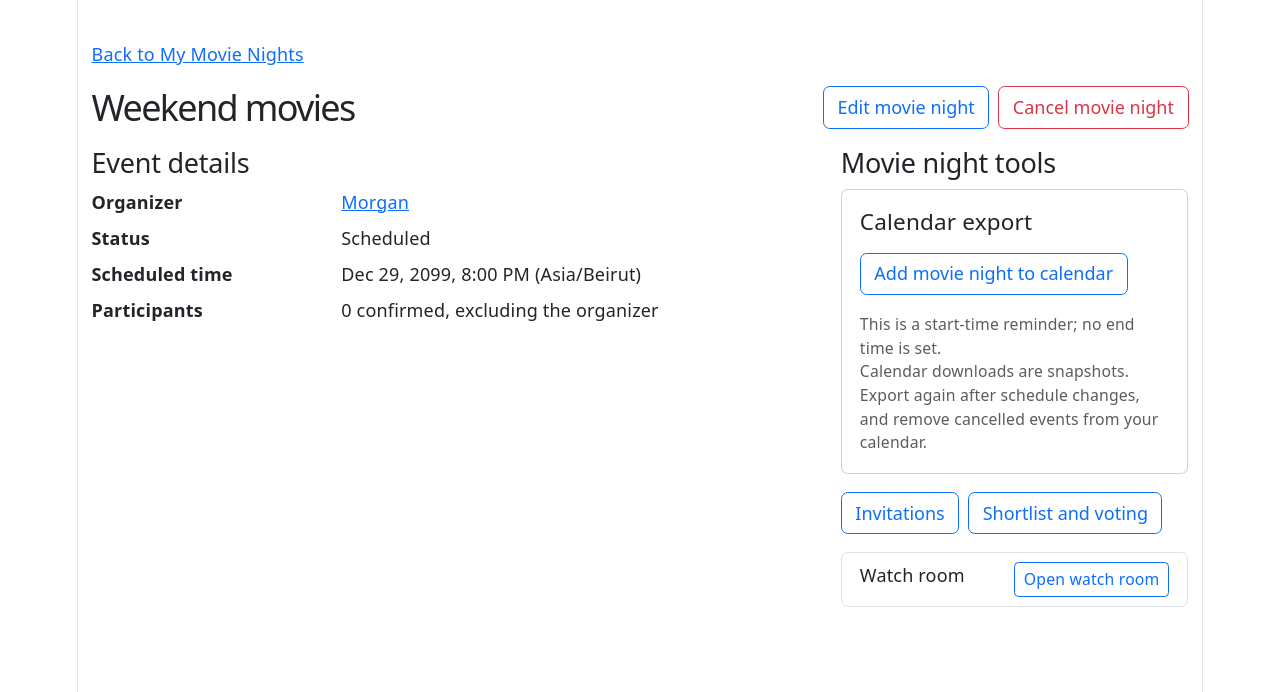
Test: lets an organizer invite a follower and inspect invitation statuses
This screenshot has width=1280, height=692.
Click the button "Invitations" at coordinates (900, 513), box [841, 492, 959, 534]
(page scrolled)
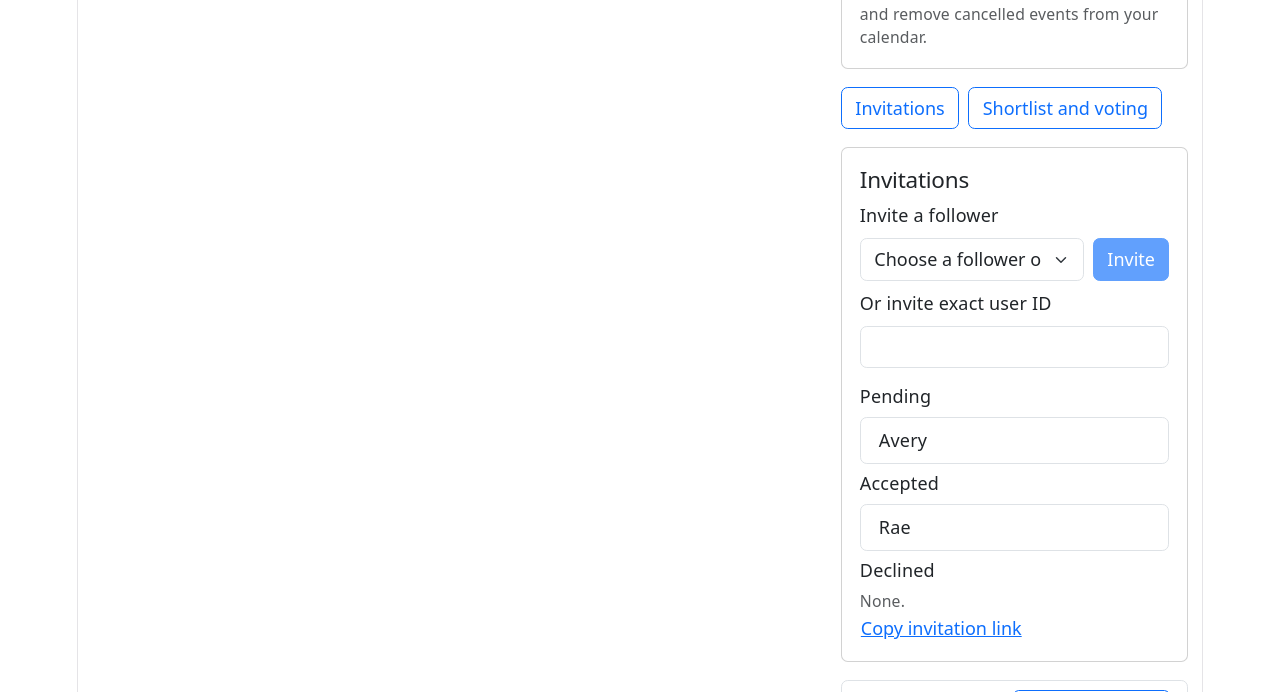
Result: the list item "Avery" is shown at [860, 417, 1170, 464]
Result: the list item "Rae" is shown at [860, 504, 1170, 550]
Type "11" into the field labelled "Or invite exact user ID" at coordinates (1015, 347), box [860, 326, 1170, 368]
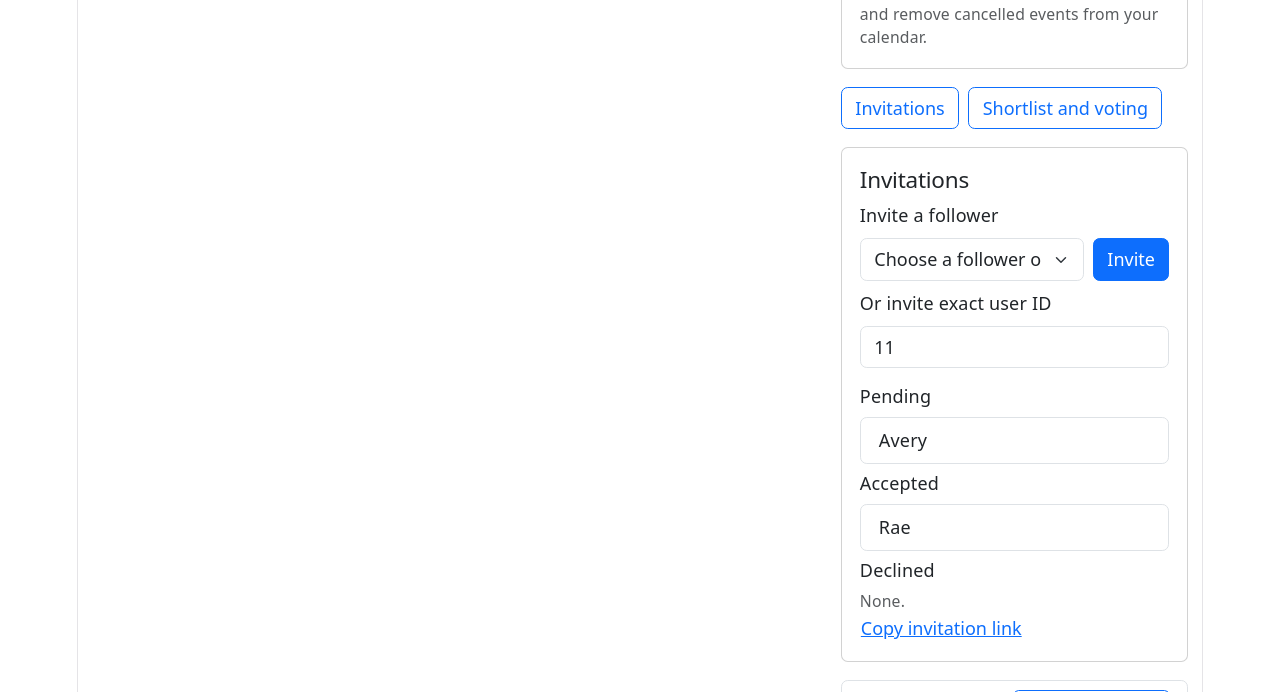
Click the button "Invite" at coordinates (1131, 260), box [1093, 238, 1170, 281]
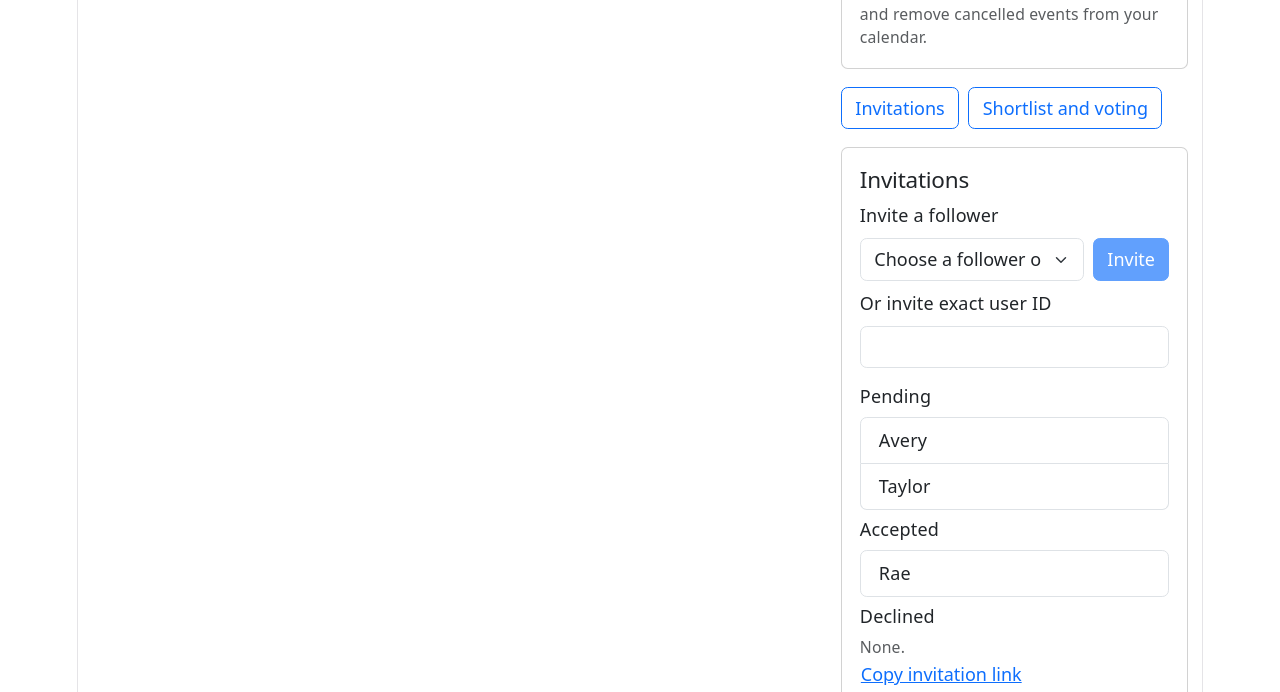
Result: the list item "Taylor" is shown at [860, 464, 1170, 510]
